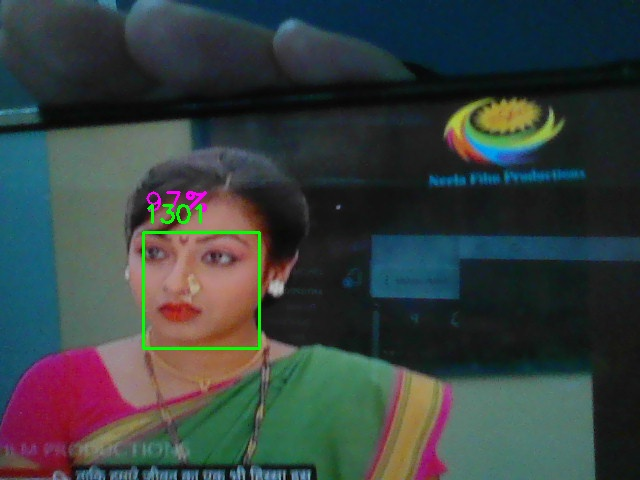fake: (143, 232, 260, 349)
